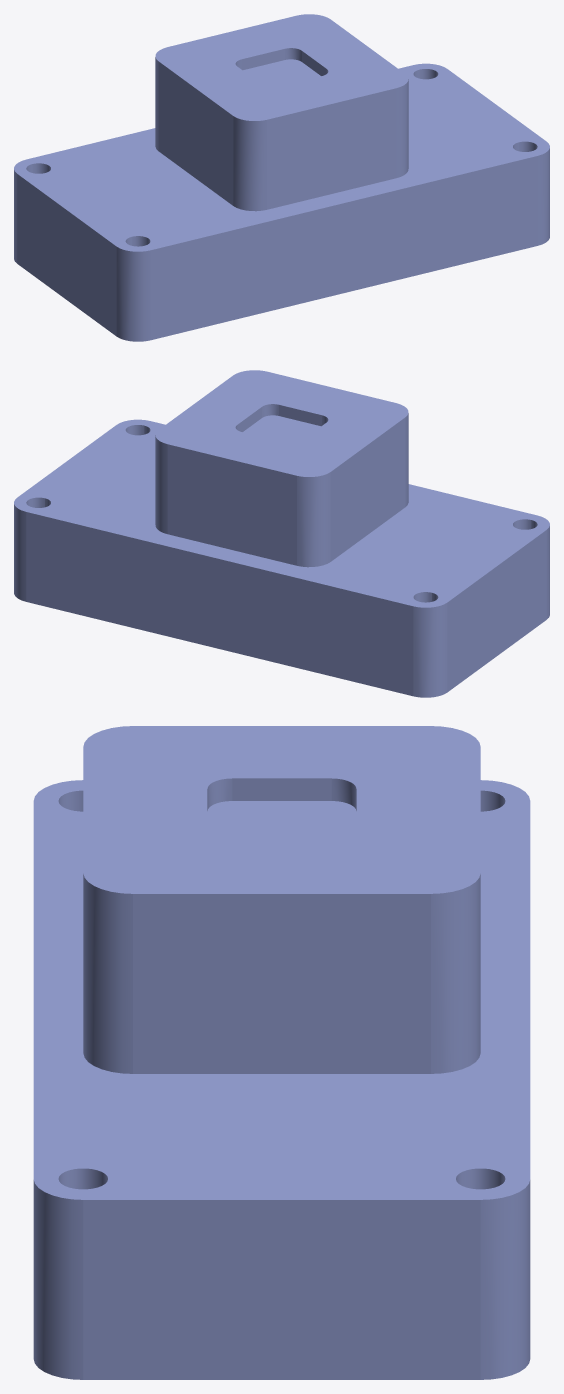
3 views of the same model, one above another, from view 1: azimuth 30°, elevation 25°; view 2: azimuth 150°, elevation 25°; view 3: azimuth 270°, elevation 25° (orthographic). The views are drawn at different scales.
Visible parts, largest first — view 1: Part1; view 2: Part1; view 3: Part1.
Part boxes in pixels (left/top/right/bottom): Part1: left=14, top=14, right=549, bottom=341; Part1: left=14, top=370, right=549, bottom=697; Part1: left=33, top=726, right=530, bottom=1379.
Size of the model in its own units: 200 by 80 by 100.
